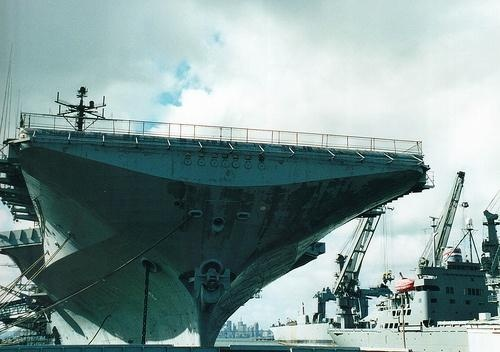boat: (4, 86, 429, 352), (330, 230, 500, 352), (270, 296, 351, 341)
